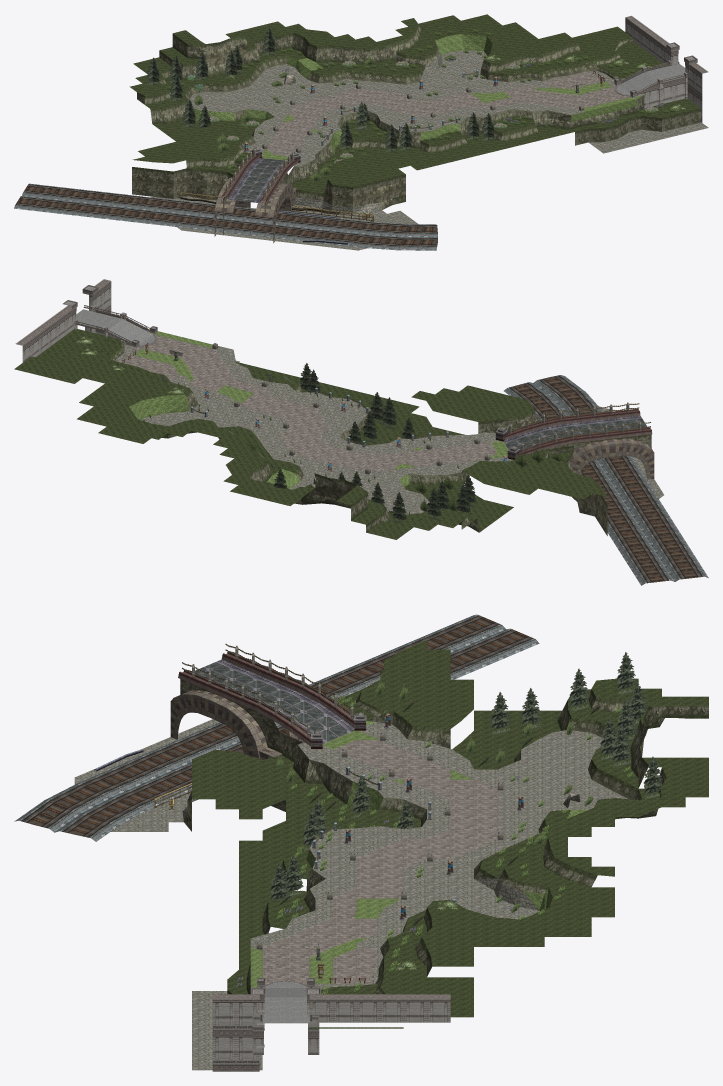
The model's file is West1.obj.
3 views of the same model, one above another, from view 1: azimuth 30°, elevation 25°; view 2: azimuth 150°, elevation 25°; view 3: azimuth 270°, elevation 25° (orthographic). The views are drawn at different scales.
Visible parts, largest first — view 1: Object.85, Object.78, Object.55, Object.183, Object.62, Object.66, Object.121, Object.69, Object.13, Object.146, Object.119, Object.139 (+87 smaller); view 2: Object.163, Object.146, Object.121, Object.55, Object.66, Object.69, Object.78, Object.117, Object.278, Object.140, Object.56, Object.119 (+53 smaller); view 3: Object.13, Object.146, Object.85, Object.16, Object.163, Object.121, Object.119, Object.140, Object.78, Object.61, Object.123, Object.134 (+66 smaller).
Part boxes in pixels (left/top/right/bottom): Object.85: left=224, top=79, right=306, bottom=111; Object.78: left=422, top=63, right=493, bottom=98; Object.55: left=14, top=187, right=105, bottom=215; Object.183: left=546, top=110, right=618, bottom=145; Object.62: left=336, top=229, right=437, bottom=250; Object.66: left=164, top=211, right=280, bottom=235; Object.121: left=427, top=14, right=517, bottom=43; Object.69: left=102, top=201, right=192, bottom=225; Object.13: left=663, top=62, right=708, bottom=122; Object.146: left=319, top=152, right=397, bottom=181; Object.119: left=518, top=32, right=600, bottom=65; Object.139: left=421, top=131, right=495, bottom=163; Object.163: left=484, top=461, right=570, bottom=519; Object.146: left=424, top=392, right=519, bottom=435; Object.121: left=77, top=393, right=150, bottom=440; Object.55: left=636, top=535, right=708, bottom=580; Object.66: left=586, top=456, right=658, bottom=504; Object.69: left=613, top=492, right=681, bottom=538; Object.78: left=172, top=398, right=267, bottom=428; Object.117: left=41, top=328, right=120, bottom=360; Object.278: left=575, top=438, right=652, bottom=479; Object.140: left=371, top=388, right=458, bottom=433; Object.56: left=607, top=524, right=664, bottom=568; Object.119: left=60, top=361, right=145, bottom=393; Object.13: left=212, top=994, right=264, bottom=1071; Object.146: left=215, top=759, right=309, bottom=820; Object.85: left=497, top=759, right=591, bottom=799; Object.16: left=307, top=994, right=403, bottom=1054; Object.163: left=394, top=669, right=520, bottom=730; Object.121: left=495, top=897, right=614, bottom=936; Object.119: left=403, top=937, right=497, bottom=987; Object.140: left=215, top=799, right=309, bottom=860; Object.78: left=402, top=879, right=497, bottom=918; Object.61: left=95, top=766, right=191, bottom=825; Object.123: left=403, top=899, right=497, bottom=947; Object.134: left=394, top=709, right=519, bottom=769.
Size of the model in its own units: 186 by 20.85 by 118.
